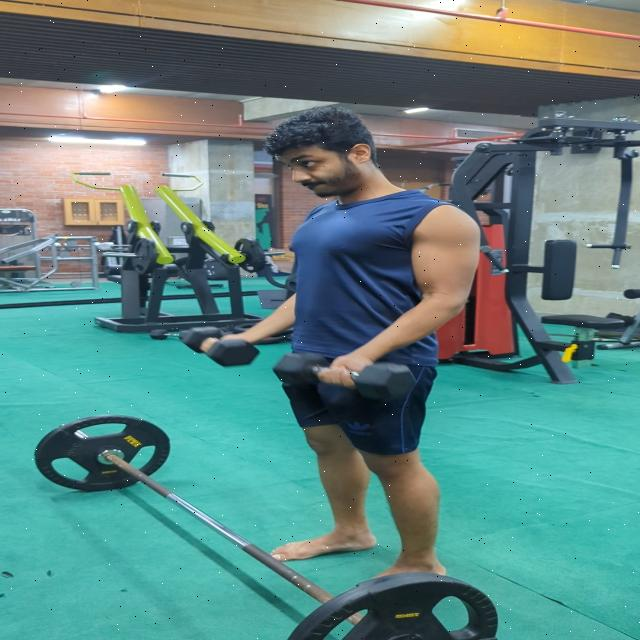Normal_DumbbellBicepCurls: (184, 105, 486, 585)
